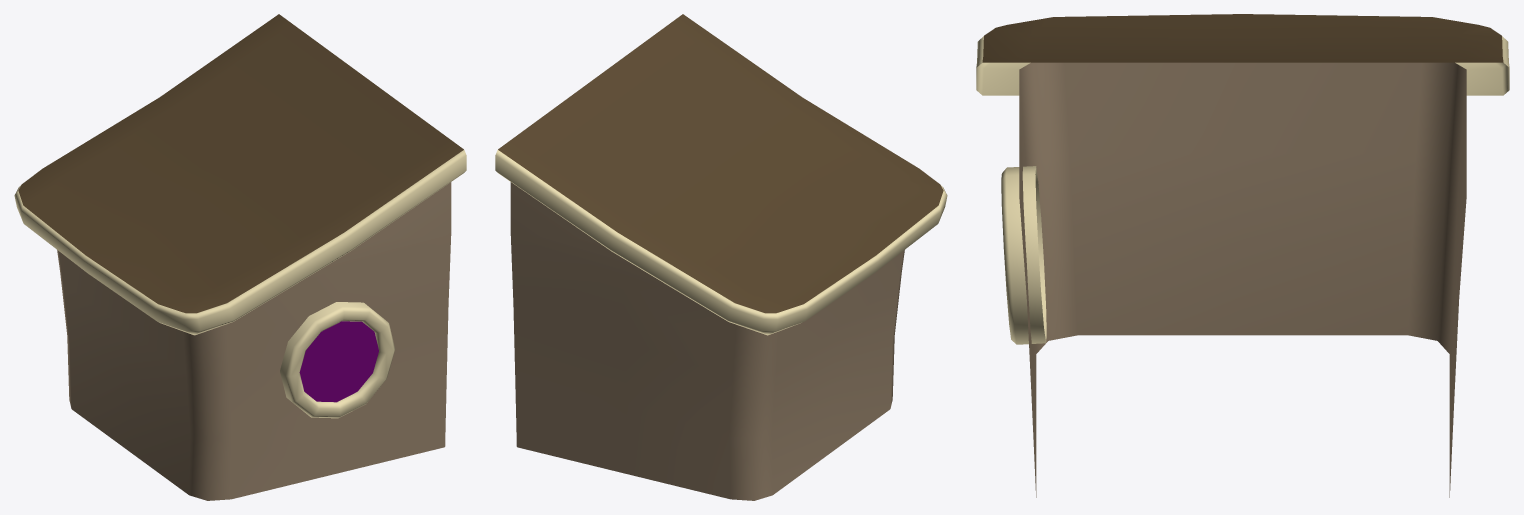
File: HouseSide_MDL.fbx
3 renders of one model, left to right at view 1: azimuth 30°, elevation 25°; view 2: azimuth 150°, elevation 25°; view 3: azimuth 270°, elevation 25°, orthographic. The views are drawn at different scales.
Visible parts, largest first — view 1: HouseSide_GEO; view 2: HouseSide_GEO; view 3: HouseSide_GEO.
Boxes of the visible parts, x1=… form: HouseSide_GEO: x1=14, y1=14, x2=466, y2=500; HouseSide_GEO: x1=495, y1=14, x2=947, y2=500; HouseSide_GEO: x1=976, y1=14, x2=1509, y2=497.
Size of the model in its own units: 228 by 235 by 260.
